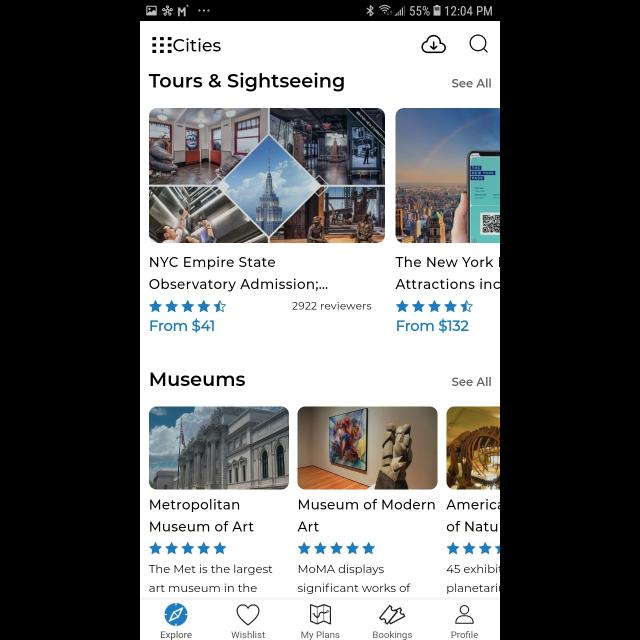icon: (298, 542, 376, 554), (150, 542, 227, 554), (150, 300, 227, 312), (396, 300, 472, 312), (446, 542, 499, 554), (165, 602, 188, 626), (379, 605, 405, 625), (237, 604, 260, 626), (422, 34, 446, 54), (310, 604, 332, 624), (454, 604, 474, 624), (468, 34, 488, 54), (154, 38, 172, 54)
image: (150, 109, 386, 244), (396, 109, 500, 244), (298, 406, 438, 489), (149, 406, 289, 489), (446, 406, 500, 489)
text: (150, 256, 328, 292), (298, 498, 434, 532), (150, 72, 344, 91), (150, 498, 254, 532), (396, 256, 500, 290), (149, 564, 273, 592), (298, 565, 410, 595), (446, 498, 500, 532), (446, 564, 499, 594), (150, 372, 246, 386), (397, 318, 469, 334), (150, 319, 213, 333), (173, 39, 220, 53), (293, 302, 372, 310), (452, 78, 492, 88), (373, 630, 412, 640), (302, 630, 340, 640), (452, 378, 492, 387), (161, 631, 192, 640), (231, 630, 265, 638), (450, 630, 478, 638)
uppertaskbar: (140, 1, 500, 22)
